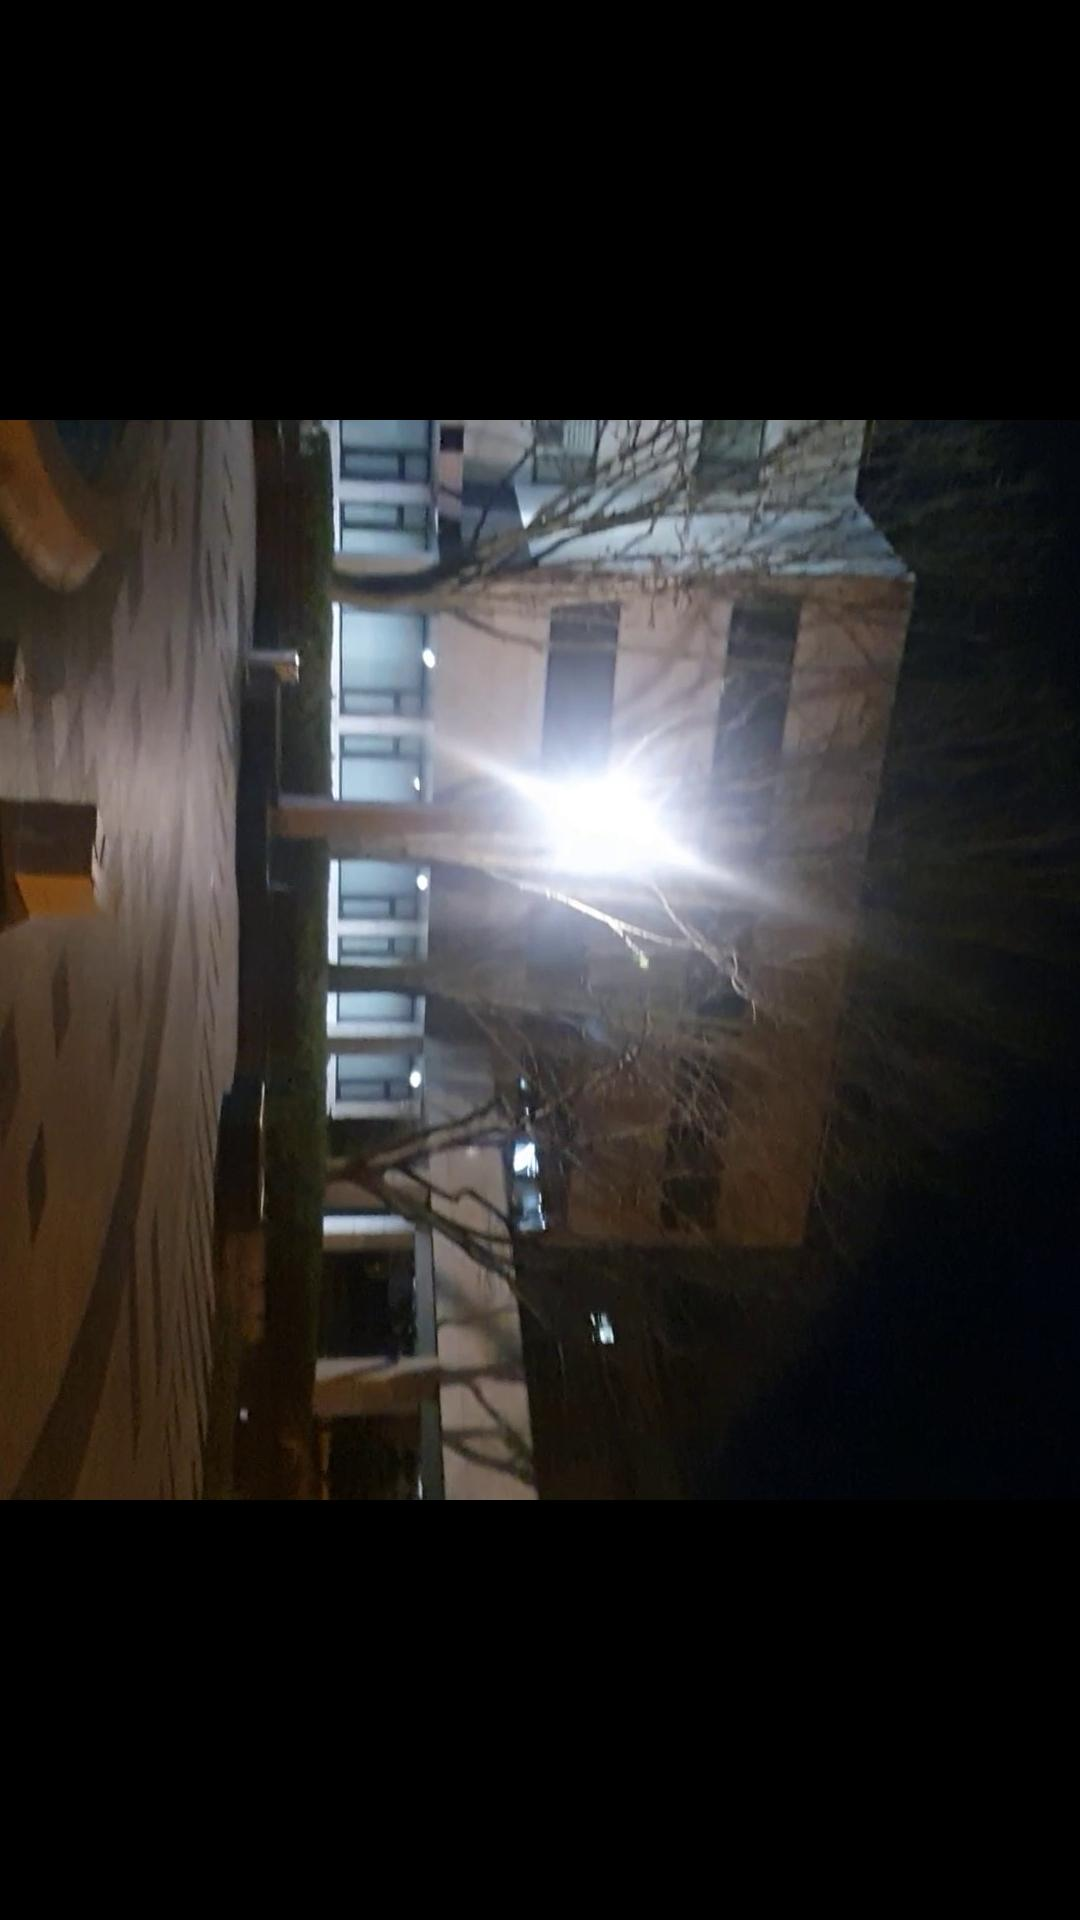Box: (0, 798, 127, 920), (0, 626, 37, 725)
